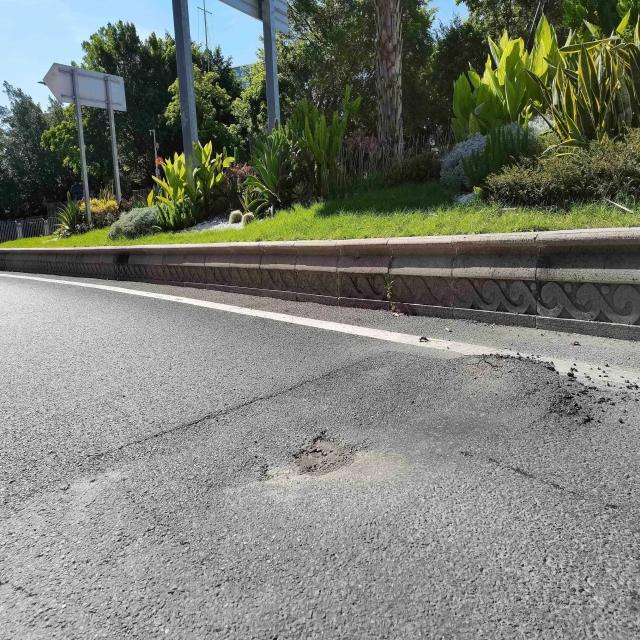Pothole: (463, 346, 588, 431), (290, 432, 357, 482)
